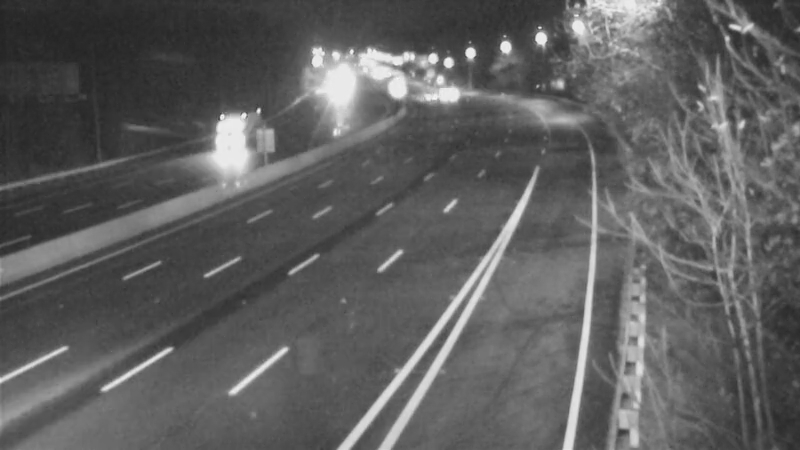vehicle: (374, 63, 424, 113), (419, 70, 469, 120), (398, 72, 448, 122), (209, 116, 259, 166)
